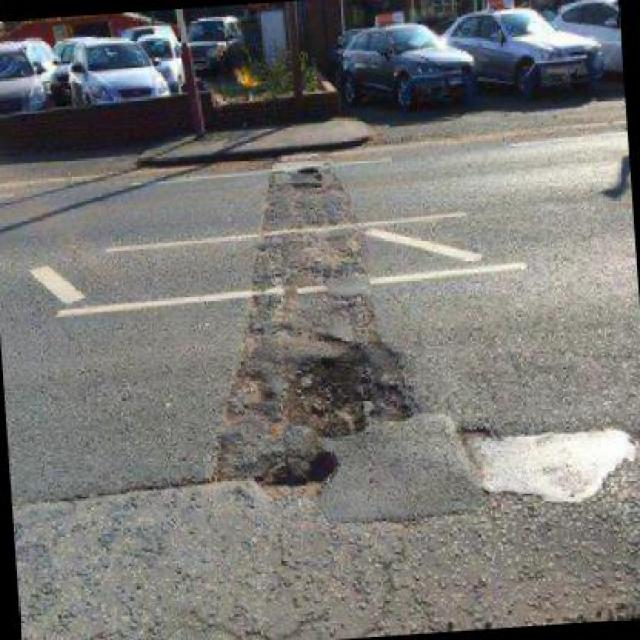pothole1: (268, 331, 421, 438), (252, 445, 343, 498), (292, 162, 326, 196)
